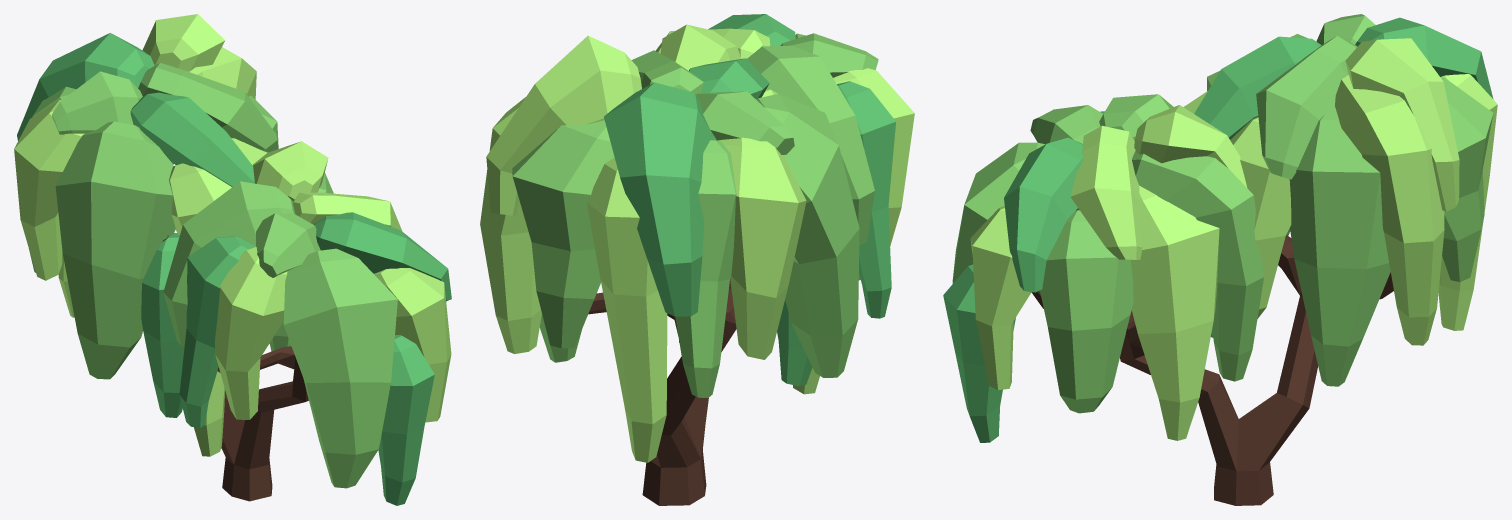
File: Tree_Type2_4.fbx
The picture shows the model from 3 angles, left to right: view 1: azimuth 30°, elevation 25°; view 2: azimuth 150°, elevation 25°; view 3: azimuth 270°, elevation 25°; orthographic projection. The views are drawn at different scales.
Parts seen in each view (by area): view 1: Tree_Type2_4; view 2: Tree_Type2_4; view 3: Tree_Type2_4.
Part boxes in pixels (x1=…): Tree_Type2_4: x1=14, y1=14, x2=451, y2=505; Tree_Type2_4: x1=480, y1=14, x2=914, y2=505; Tree_Type2_4: x1=943, y1=14, x2=1497, y2=505.
Size of the model in its own units: 351 by 518 by 564.
